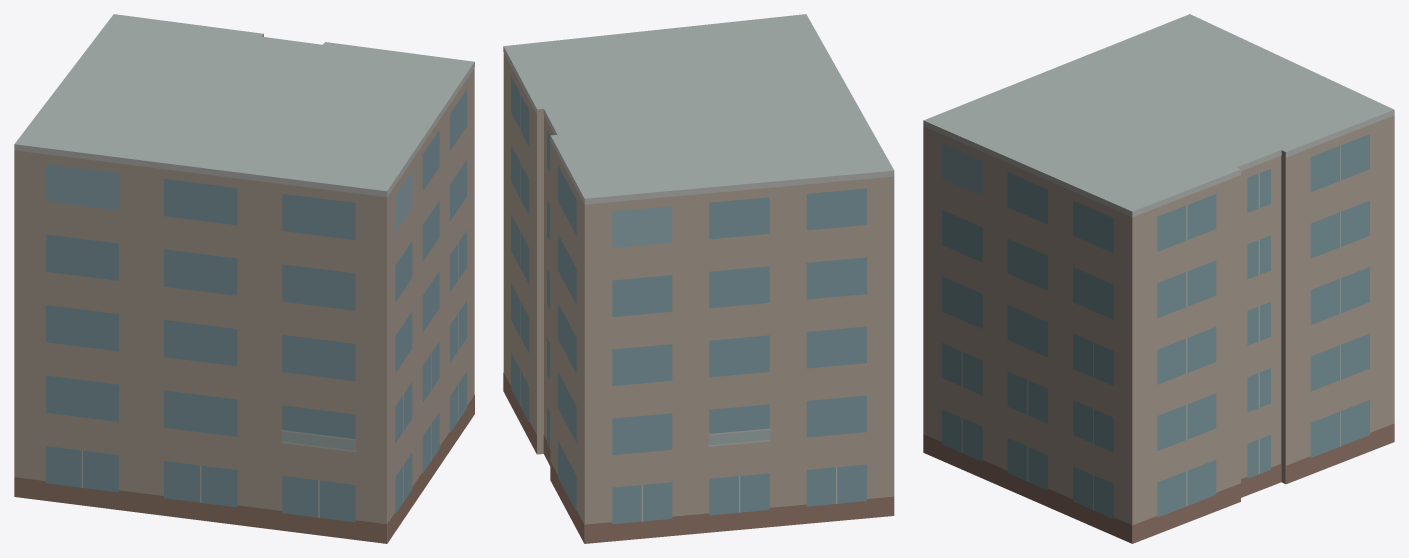
File: survey-upis-32727616.glb
3 views of the same model, side by side, from view 1: azimuth 30°, elevation 25°; view 2: azimuth 150°, elevation 25°; view 3: azimuth 270°, elevation 25° (orthographic). The views are drawn at different scales.
Visible parts, largest first — view 1: survey-upis-32727616.tmp; view 2: survey-upis-32727616.tmp; view 3: survey-upis-32727616.tmp.
Part boxes in pixels (bbox=[...]): survey-upis-32727616.tmp: bbox=[14, 14, 474, 543]; survey-upis-32727616.tmp: bbox=[503, 14, 894, 543]; survey-upis-32727616.tmp: bbox=[923, 14, 1394, 543].
Bounding box in the file's own units: 18.25 × 14.3 × 18.39.
